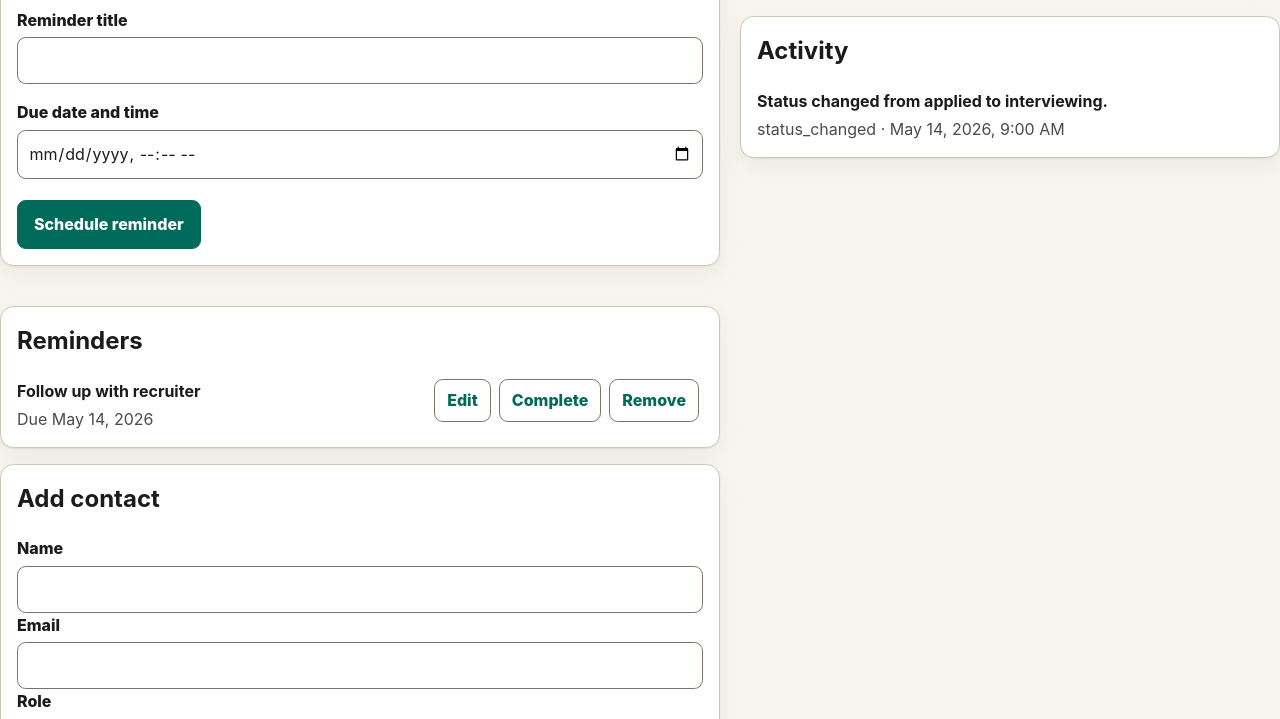
it: ApplicationDetailPage › completes a reminder
(page scrolled)
Expected: the text "Follow up with recruiter" is shown, [17,380,200,400]
Click the button "Complete" at (550, 400), box [499,378,601,422]
(page scrolled)
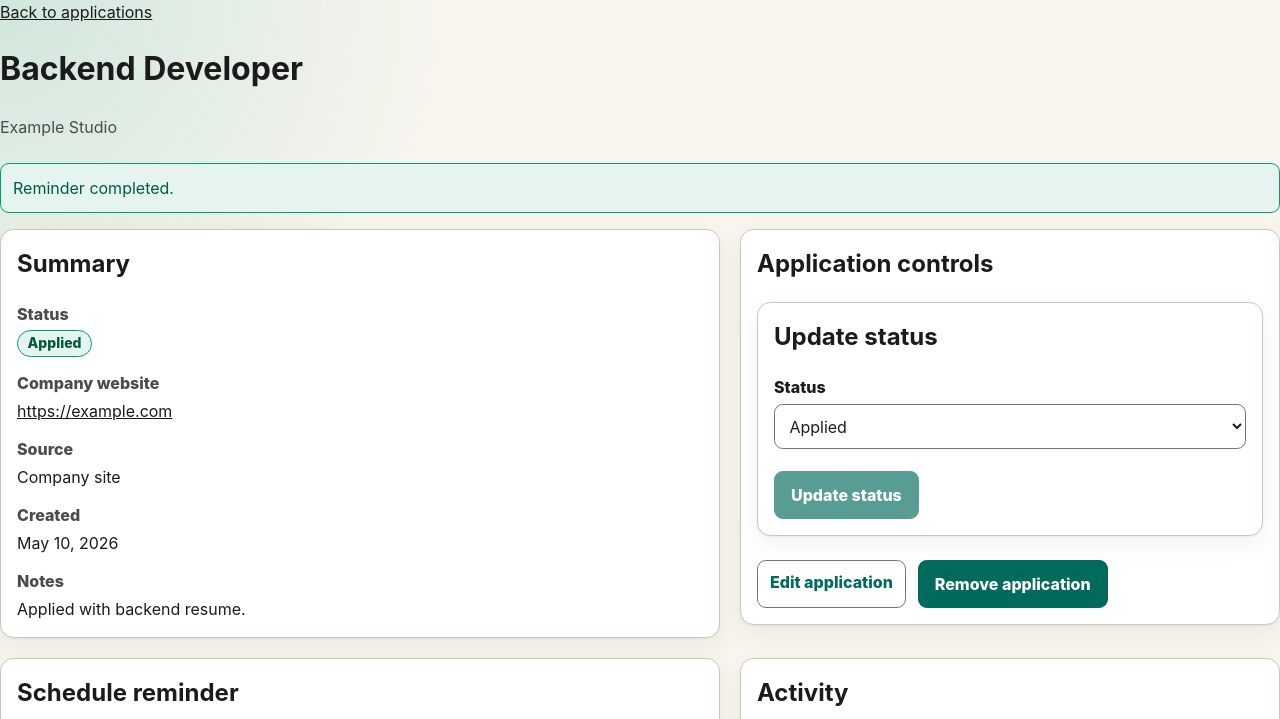
Expected: the message reads "Reminder completed.", [13,178,174,198]
